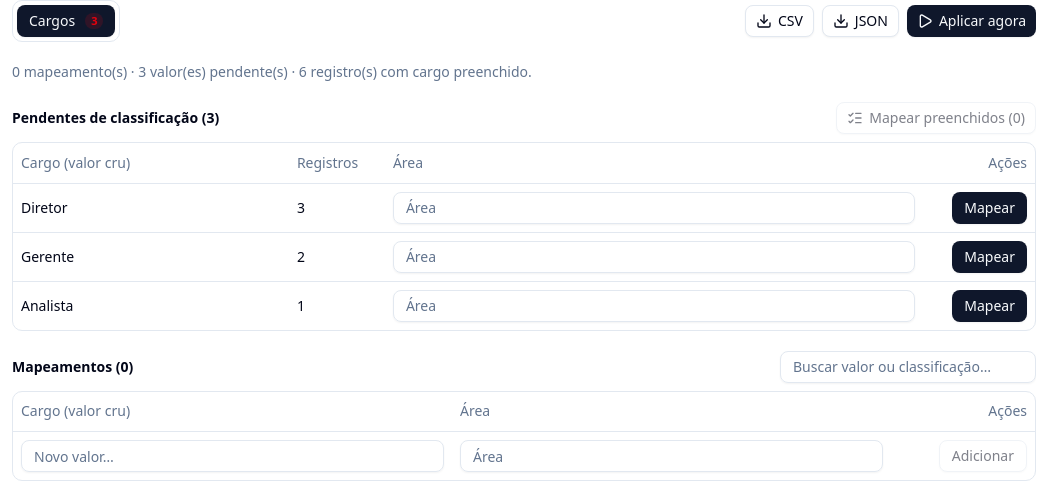
MappingsManager — save otimista em background › Mapear não trava a tela: linha some na hora, as demais seguem editáveis e o próximo save coalesce no lote seguinte
The width and height of the screenshot is (1048, 498).
Type "Comercial" into the field named "Área para o valor" at (654, 208), box [393, 192, 915, 224]
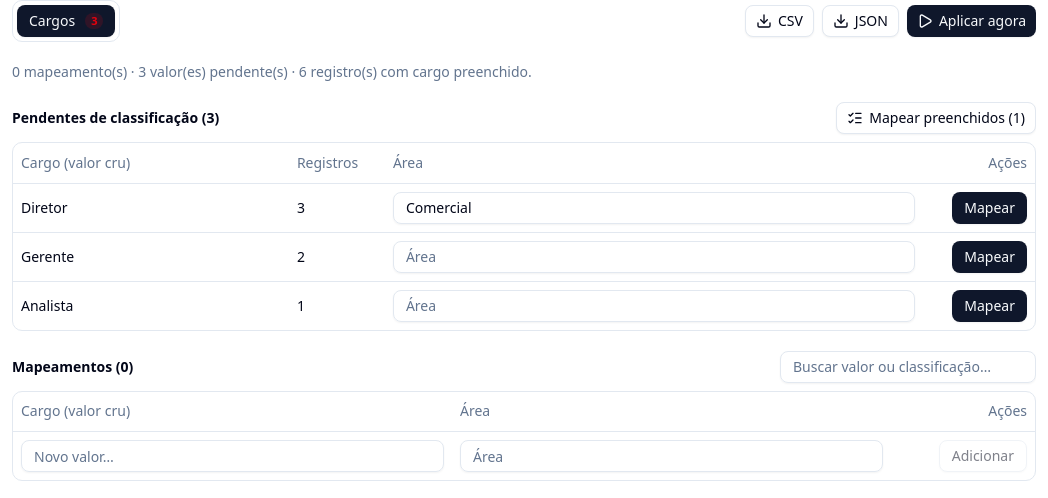
Click the button "Mapear" in the row of "Diretor" at (990, 208), box [952, 192, 1027, 224]
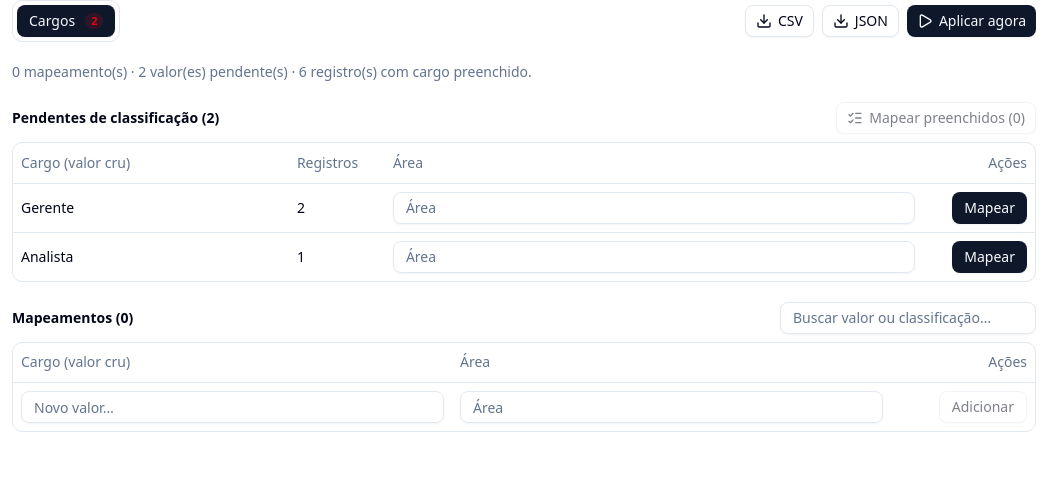
Expected: the text "Diretor" is gone
Expected: the heading "Pendentes de classificação (2)" is shown, [12, 108, 219, 128]
Type "Financeiro" into the field named "Área para o valor" at (654, 208), box [393, 192, 915, 224]
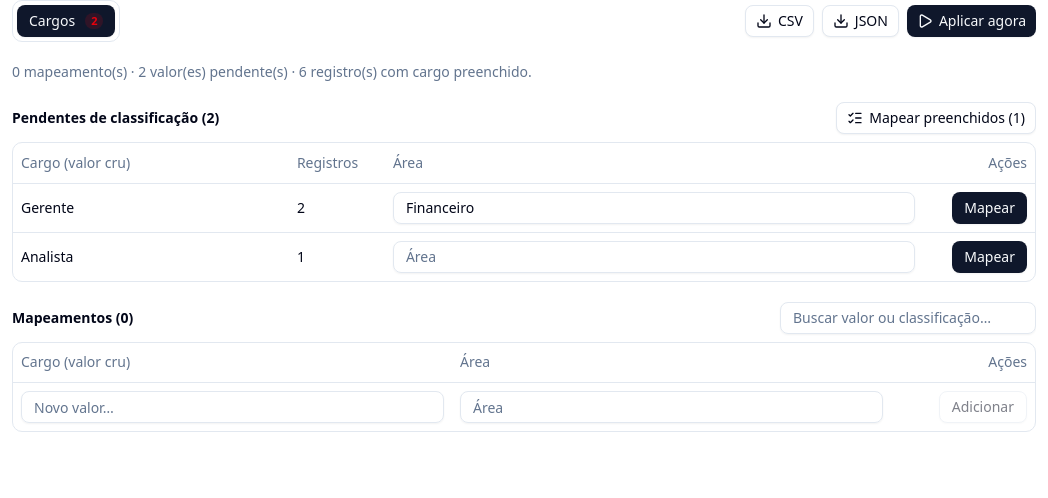
Click the button "Mapear" in the row of "Gerente" at (990, 208), box [952, 192, 1027, 224]
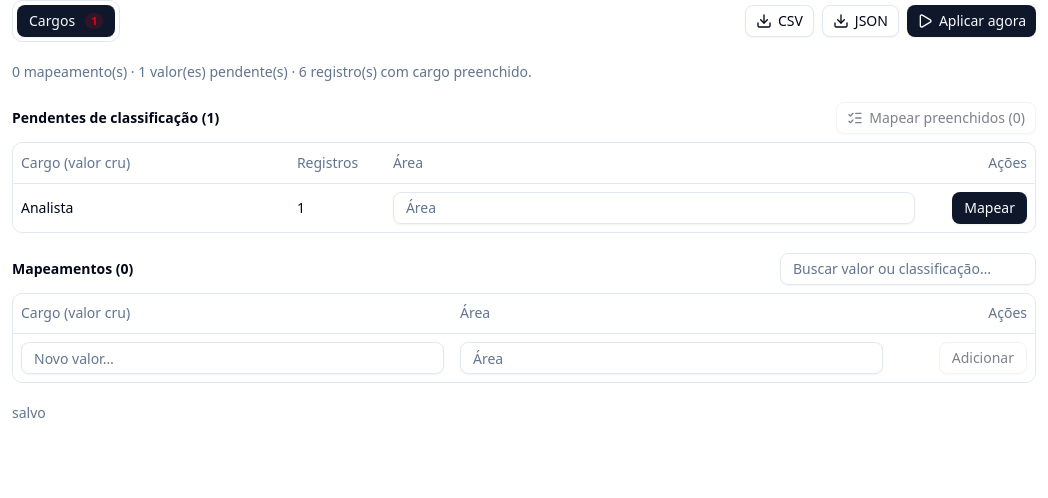
Expected: the text "Gerente" is gone
